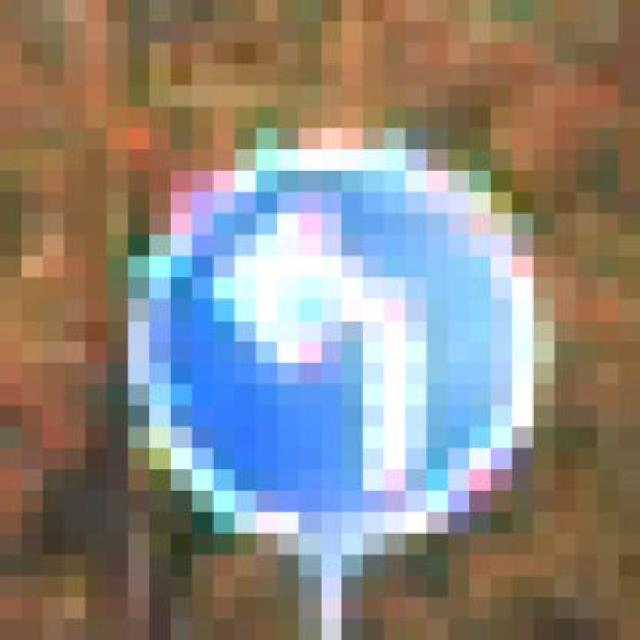Turn left ahead: (129, 128, 576, 555)
